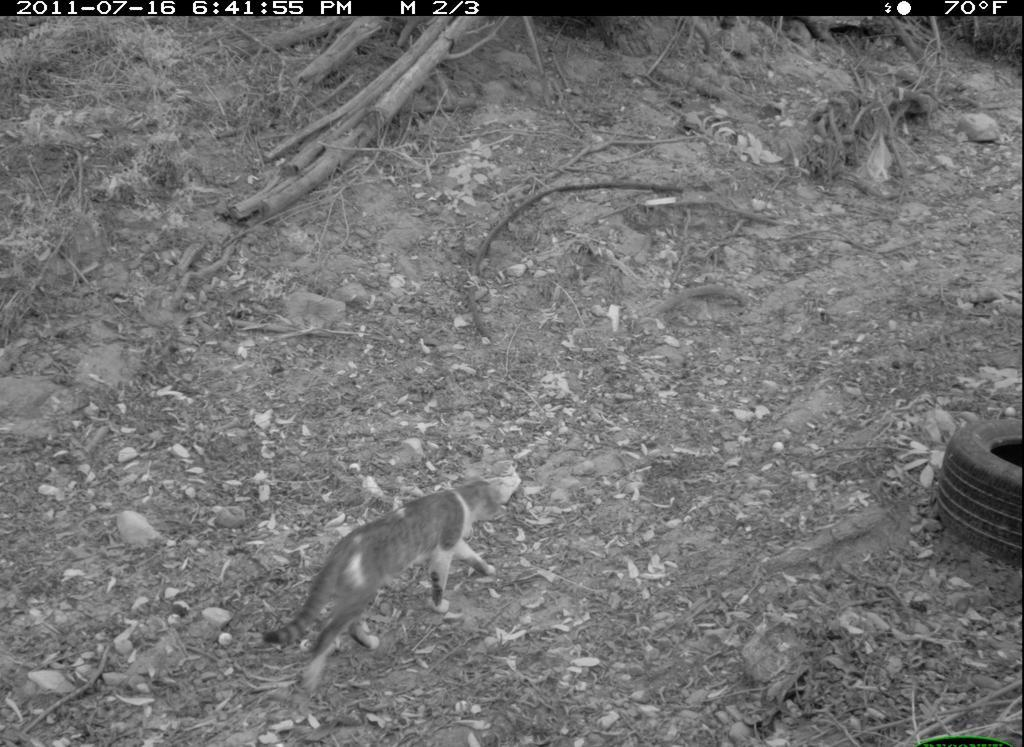cat: (253, 457, 539, 716)
